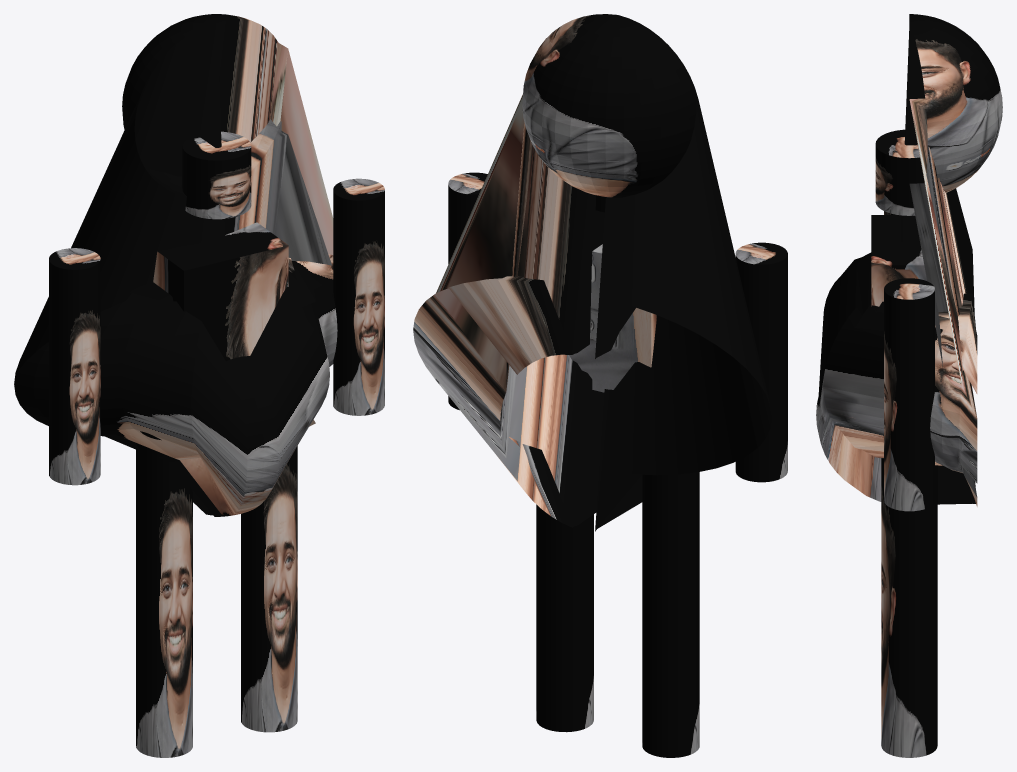
The model's file is rigged.glb.
3 views of the same model, side by side, from view 1: azimuth 30°, elevation 25°; view 2: azimuth 150°, elevation 25°; view 3: azimuth 270°, elevation 25° (orthographic). The views are drawn at different scales.
Visible parts, largest first — view 1: Character_Head, Character_Body; view 2: Character_Head, Character_Body; view 3: Character_Head, Character_Body.
Part boxes in pixels (<box>): Character_Head: <box>14,14,337,516</box>; Character_Body: <box>49,131,384,757</box>; Character_Head: <box>413,14,771,531</box>; Character_Body: <box>448,172,787,757</box>; Character_Head: <box>816,14,1002,506</box>; Character_Body: <box>871,129,937,757</box>.
Bounding box in the file's own units: 0.9494 × 1.82 × 0.44.
1 material, 1 textured.
